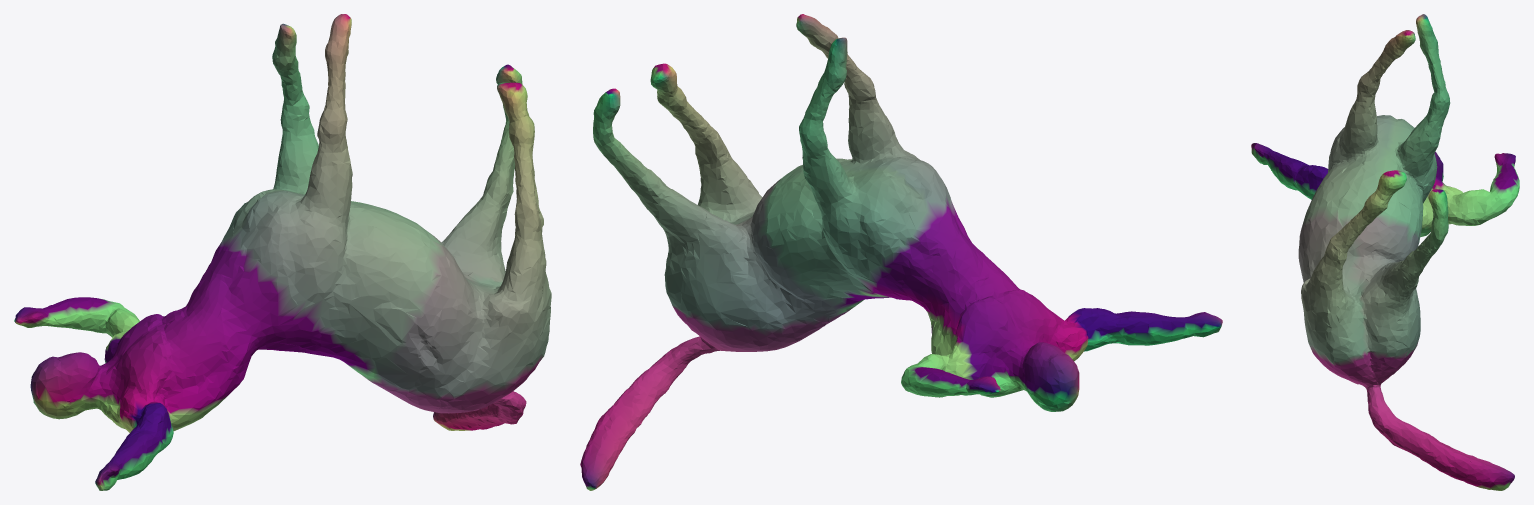
Rendered from centaur-5.off.obj.
3 views of the same model, side by side, from view 1: azimuth 30°, elevation 25°; view 2: azimuth 150°, elevation 25°; view 3: azimuth 270°, elevation 25° (orthographic). The views are drawn at different scales.
Bounding box in the file's own units: 1.38 × 1.2 × 0.7405.
